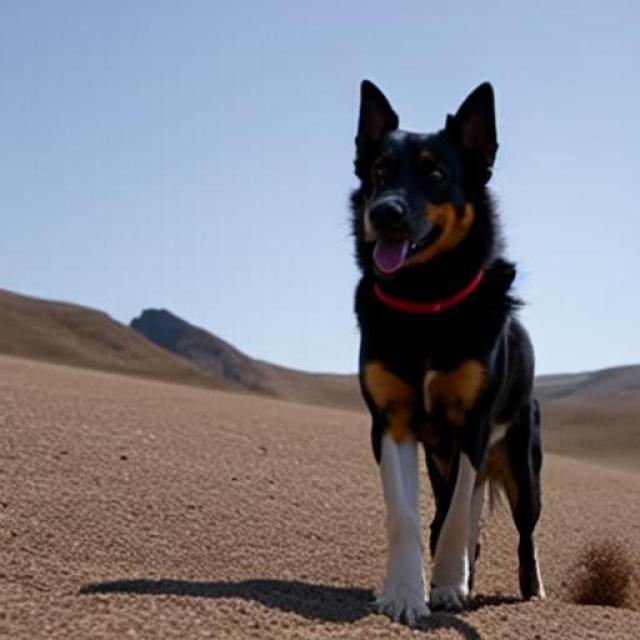Dog: (350, 80, 545, 624)
